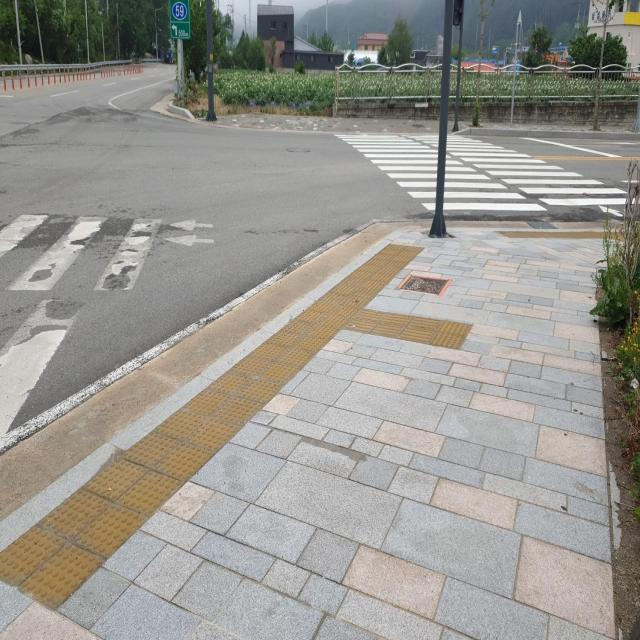횡단보도: (1, 209, 162, 448), (333, 131, 640, 218)
